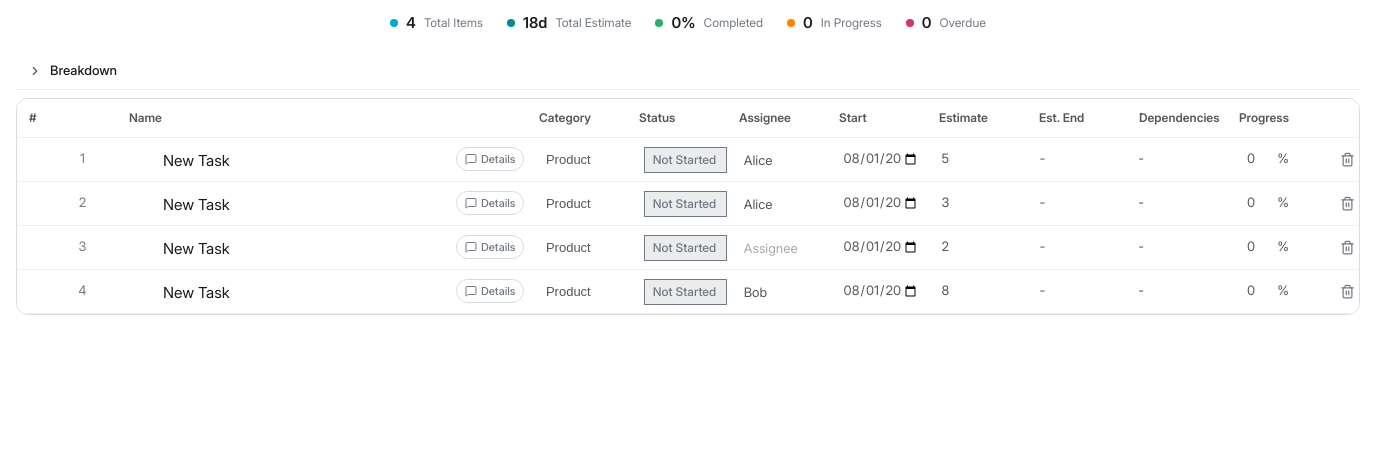
Test case: TasksView › assignee breakdown shows correct grouping and sorting by estimate
Click the text "Breakdown": (73, 70) top-left (28, 62), bottom-right (117, 78)
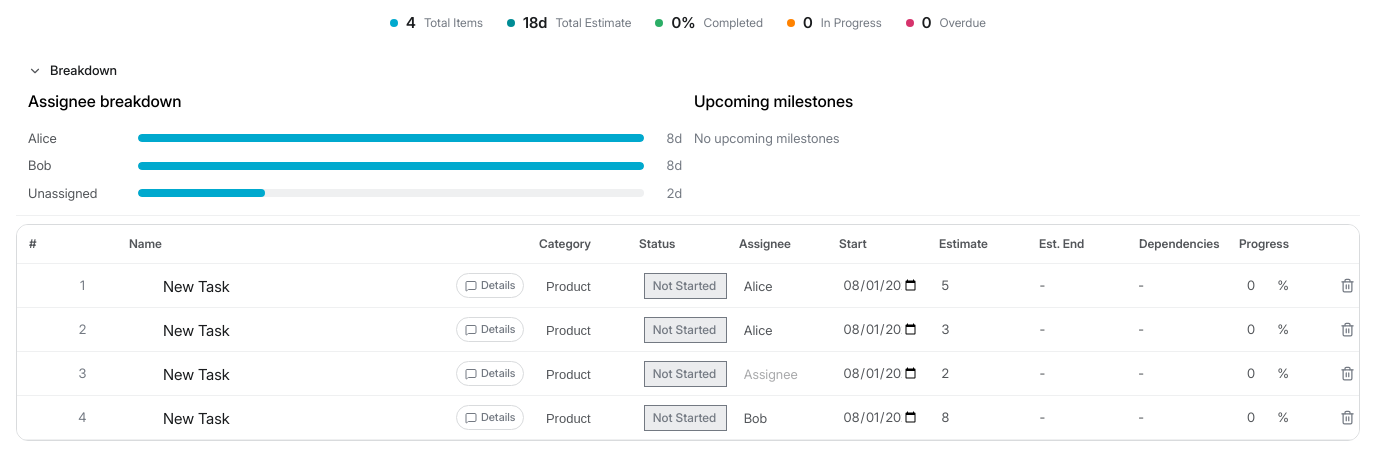
Result: the text "Assignee breakdown" is shown at top-left (28, 90), bottom-right (182, 110)
Result: the text "Unassigned" is shown at top-left (28, 184), bottom-right (97, 200)
Result: the text "Alice" is shown at top-left (28, 130), bottom-right (57, 146)
